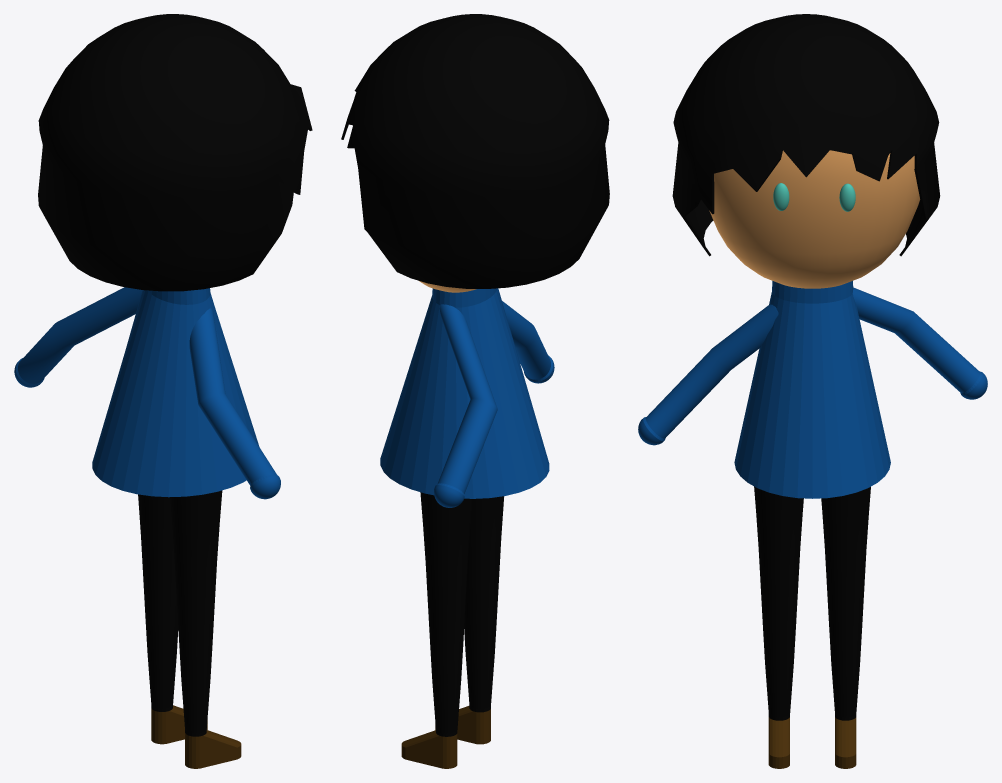
Rendered from Boy1_Standard.fbx.
3 renders of one model, left to right at view 1: azimuth 30°, elevation 25°; view 2: azimuth 150°, elevation 25°; view 3: azimuth 270°, elevation 25°, orthographic.
Parts seen in each view (by area): view 1: Sphere012, Sphere002, Sphere009 (×2), Cylinder006, Sphere008; view 2: Sphere012, Sphere002, Sphere009 (×2), Cylinder006, Sphere008; view 3: Sphere002, Sphere012, Sphere009 (×2), Cylinder006, Sphere008.
Boxes of the visible parts, x1,y1,x2,y2 form: Sphere012: (38,14,312,291); Sphere002: (92,288,259,497); Sphere009 (×2): (138,308,280,744); Cylinder006: (170,490,241,768); Sphere008: (14,287,142,387); Sphere012: (341,14,609,288); Sphere002: (380,281,549,498); Sphere009 (×2): (401,301,554,768); Cylinder006: (435,496,504,744); Sphere008: (433,304,497,507); Sphere002: (709,150,920,498); Sphere012: (672,14,940,256); Sphere009 (×2): (638,304,870,768); Cylinder006: (754,486,803,768); Sphere008: (852,287,987,399).
Size of the model in its own units: 110 by 321 by 142.
1 material, 1 textured.
